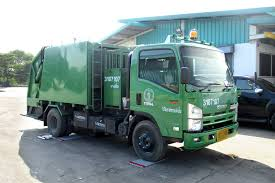truck: (24, 38, 239, 163)
